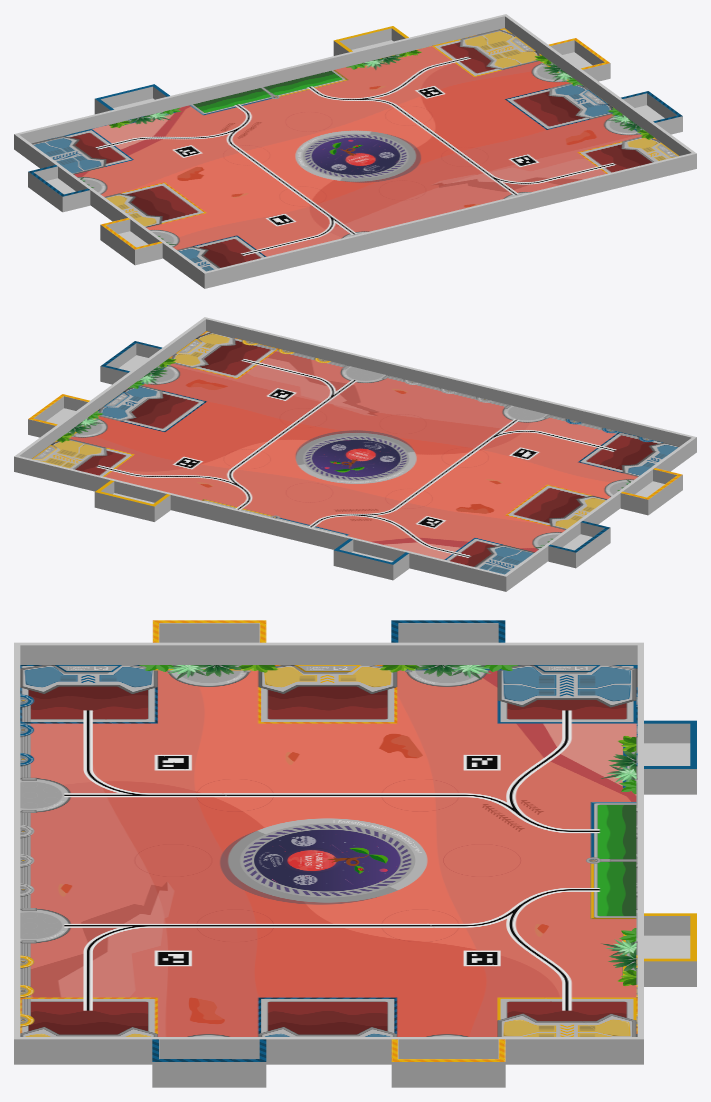
File: table.glb
The picture shows the model from 3 angles, top to bottom: view 1: azimuth 30°, elevation 25°; view 2: azimuth 150°, elevation 25°; view 3: azimuth 270°, elevation 25°; orthographic projection. The views are drawn at different scales.
Visible parts, largest first — view 1: Table; view 2: Table; view 3: Table.
Boxes of the visible parts, x1,y1,x2,y2 form: Table: (14,14,696,288); Table: (14,317,696,591); Table: (14,620,696,1087).
Size of the model in its own units: 3.38 by 0.092 by 2.21.
6 materials, 3 textured.
